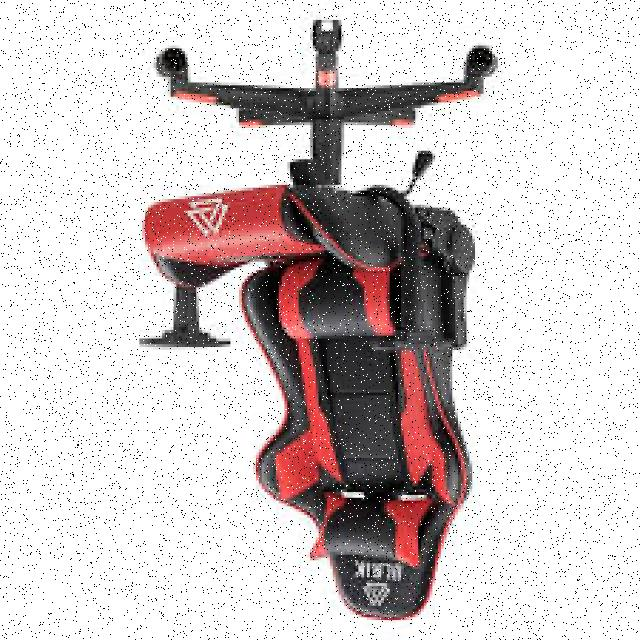bottle: (138, 17, 506, 624)
